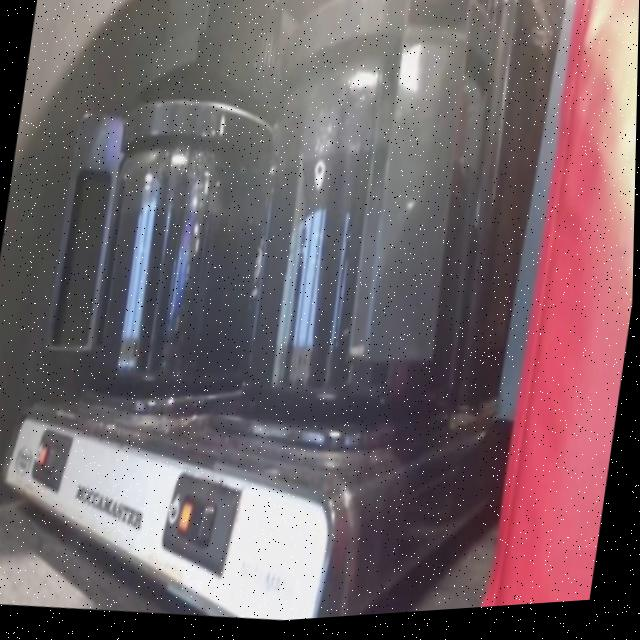coffee: (222, 0, 523, 464), (75, 75, 326, 425)
